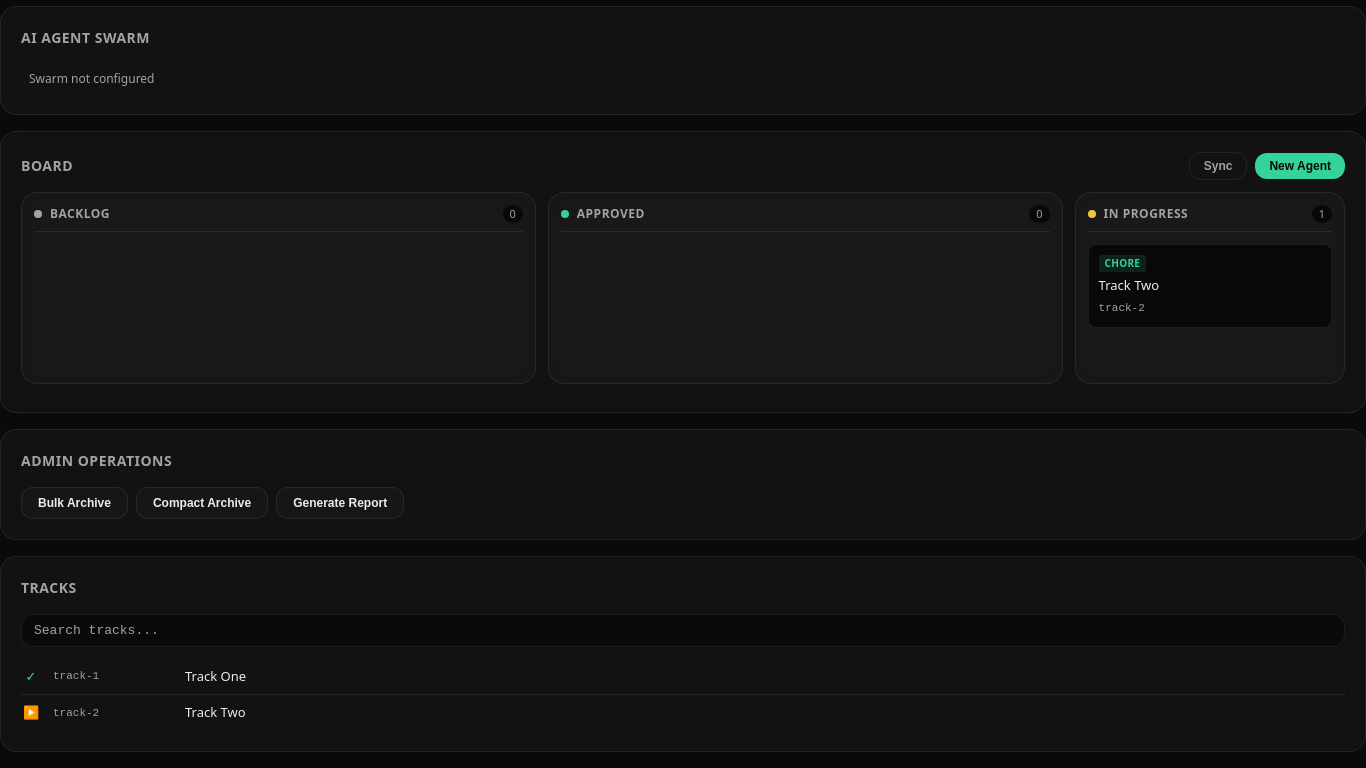
Test: ProjectPage › clears search when clear button is clicked
(page scrolled)
Type "test" into the field with placeholder "Search tracks...".
click(683, 630); type("test")  # box [21,614,1345,646]
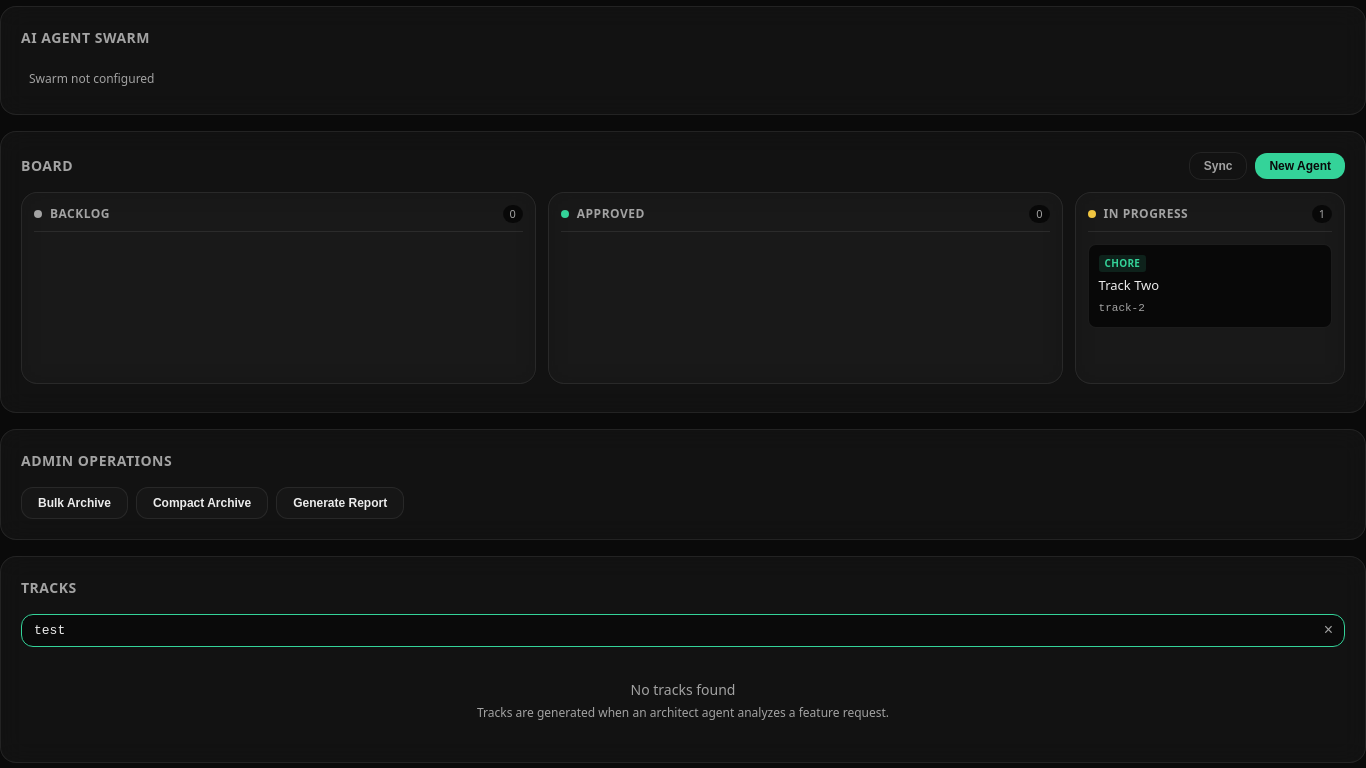
Click the button named "Clear search".
click(1328, 630)  # box [1320,620,1337,640]
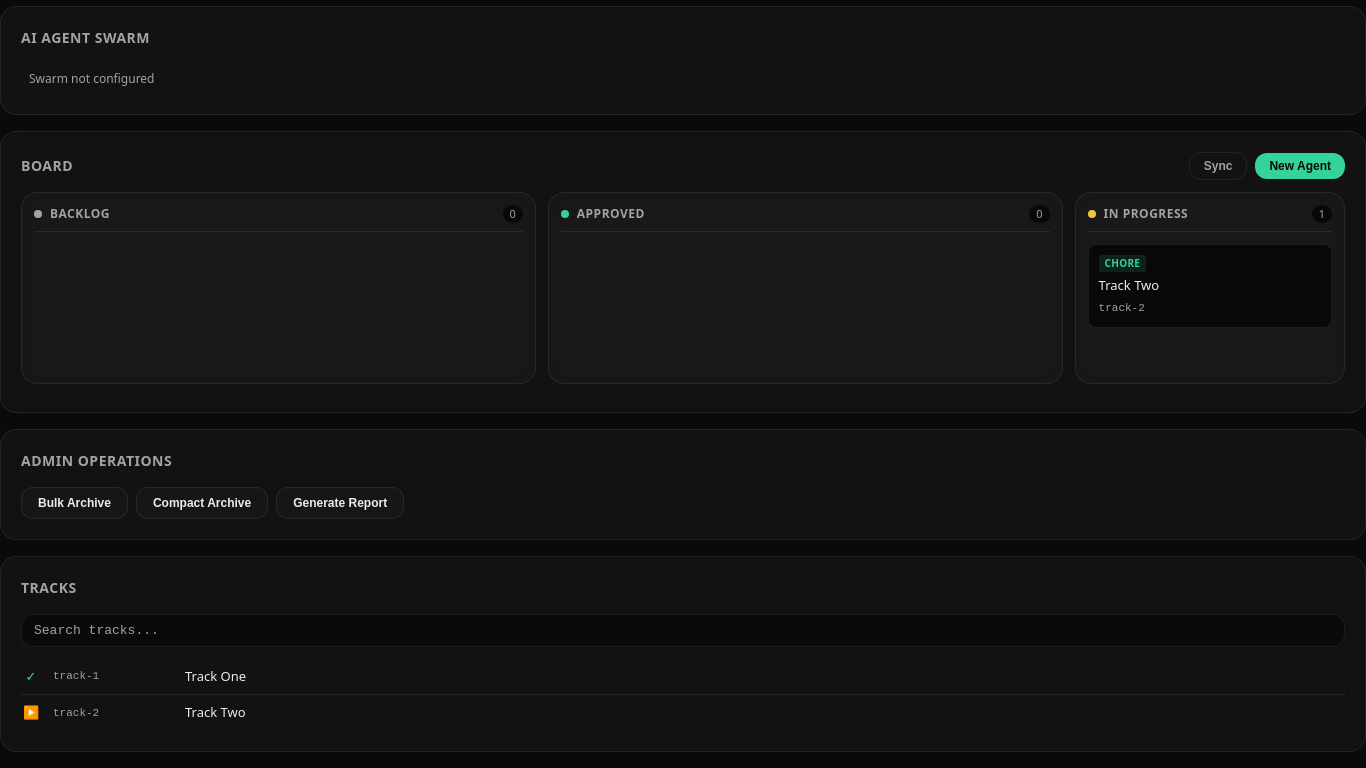
Expected: the field with placeholder "Search tracks..." is empty, [21,614,1345,646]
